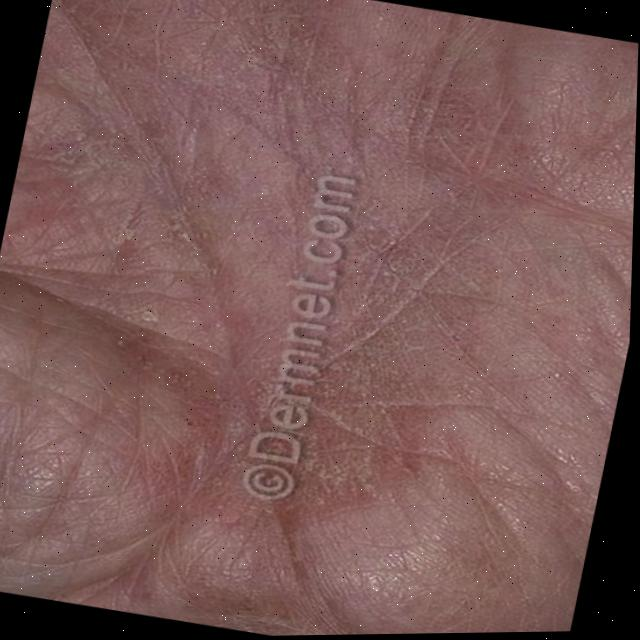Eczema: (214, 369, 407, 514)
